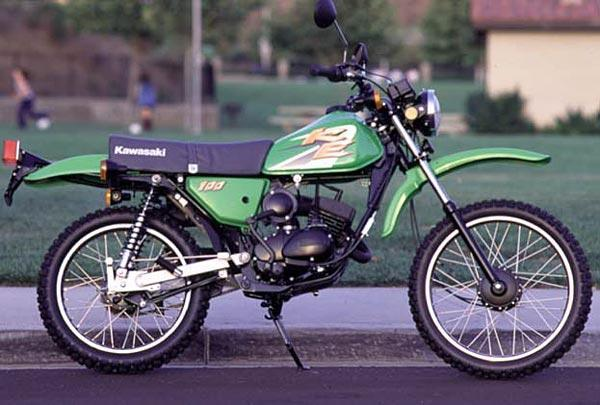motorcycle: (1, 1, 599, 386)
